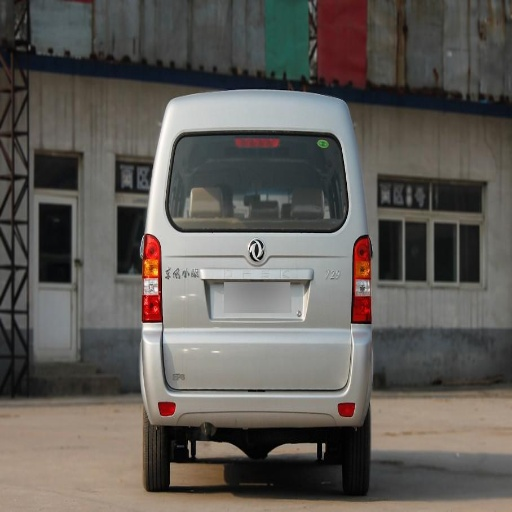back_bumper: (144, 325, 372, 431)
trunk: (161, 232, 358, 390)
